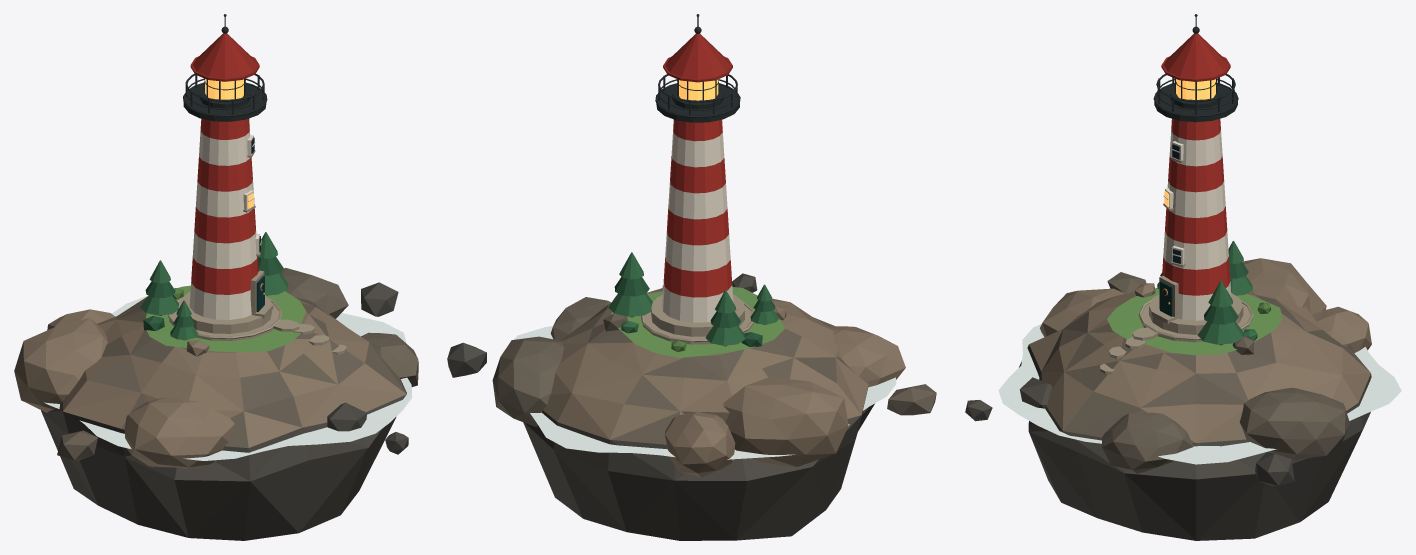
File: lighthouse.glb
The picture shows the model from 3 angles, left to right: view 1: azimuth 30°, elevation 25°; view 2: azimuth 150°, elevation 25°; view 3: azimuth 270°, elevation 25°; orthographic projection.
Visible parts, largest first — view 1: Rocky Island, Boulder Front, Boulder Left, Foam, Grass Cap, Roof, Boulder Right, Tower Band 02, Tower Band 03, Tower Band 04, Tower Band 01, Boulder Right Low (+13 smaller); view 2: Rocky Island, Boulder Left, Boulder Right, Boulder Far, Boulder Front, Foam, Grass Cap, Roof, Tower Band 02, Tower Band 03, Tower Band 04, Tower Band 05 (+13 smaller); view 3: Rocky Island, Boulder Right, Foam, Boulder Right Low, Grass Cap, Boulder Left, Roof, Boulder Far, Tower Band 04, Boulder Front, Tower Band 02, Tower Band 03 (+14 smaller).
Boxes of the visible parts, x1=… form: Rocky Island: x1=41, y1=294, x2=406, y2=540; Boulder Front: x1=125, y1=396, x2=234, y2=468; Boulder Left: x1=14, y1=318, x2=107, y2=412; Foam: x1=44, y1=295, x2=412, y2=460; Grass Cap: x1=145, y1=285, x2=306, y2=352; Roof: x1=193, y1=33, x2=257, y2=78; Boulder Right: x1=280, y1=268, x2=348, y2=318; Tower Band 02: x1=191, y1=256, x2=258, y2=294; Tower Band 03: x1=192, y1=230, x2=256, y2=268; Tower Band 04: x1=194, y1=204, x2=255, y2=243; Tower Band 01: x1=189, y1=283, x2=251, y2=319; Boulder Right Low: x1=361, y1=332, x2=418, y2=386; Rocky Island: x1=523, y1=288, x2=874, y2=540; Boulder Left: x1=723, y1=377, x2=848, y2=466; Boulder Right: x1=492, y1=336, x2=563, y2=426; Boulder Far: x1=665, y1=411, x2=735, y2=477; Boulder Front: x1=828, y1=326, x2=905, y2=387; Foam: x1=514, y1=326, x2=896, y2=459; Grass Cap: x1=611, y1=286, x2=784, y2=357; Roof: x1=665, y1=33, x2=730, y2=79; Tower Band 02: x1=663, y1=257, x2=732, y2=297; Tower Band 03: x1=665, y1=231, x2=730, y2=271; Tower Band 04: x1=667, y1=206, x2=728, y2=245; Tower Band 05: x1=668, y1=181, x2=727, y2=219; Rocky Island: x1=1019, y1=292, x2=1371, y2=540; Boulder Right: x1=1239, y1=387, x2=1350, y2=460; Foam: x1=998, y1=324, x2=1401, y2=464; Boulder Right Low: x1=1101, y1=412, x2=1193, y2=473; Grass Cap: x1=1107, y1=287, x2=1282, y2=355; Boulder Left: x1=1242, y1=258, x2=1326, y2=314; Roof: x1=1163, y1=33, x2=1228, y2=78; Boulder Far: x1=1312, y1=306, x2=1371, y2=352; Tower Band 04: x1=1165, y1=206, x2=1227, y2=243; Boulder Front: x1=1040, y1=288, x2=1126, y2=336; Tower Band 02: x1=1162, y1=256, x2=1230, y2=295; Tower Band 03: x1=1163, y1=231, x2=1228, y2=269.
Size of the model in its own units: 11.04 by 12.28 by 10.2.
